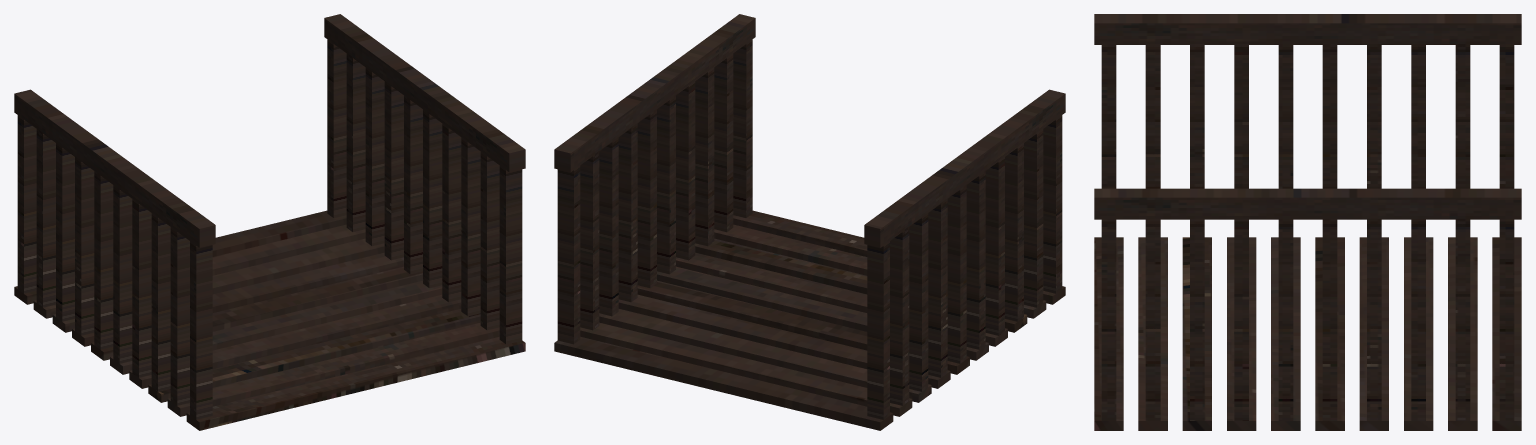
The model's file is bridge.fbx.
The picture shows the model from 3 angles, left to right: view 1: azimuth 30°, elevation 25°; view 2: azimuth 150°, elevation 25°; view 3: azimuth 270°, elevation 25°; orthographic projection. The views are drawn at different scales.
Parts seen in each view (by area): view 1: Cube; view 2: Cube; view 3: Cube.
Part boxes in pixels (x1,y1,x2,y2): Cube: (14, 14, 525, 430); Cube: (554, 14, 1065, 430); Cube: (1094, 14, 1521, 430).
Size of the model in its own units: 531 by 314 by 523.
